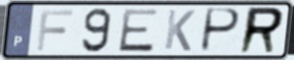9: (81, 7, 114, 54)
E: (116, 7, 161, 53)
F: (34, 8, 75, 53)
K: (162, 8, 197, 53)
P: (198, 7, 242, 54)
R: (237, 5, 287, 55)
